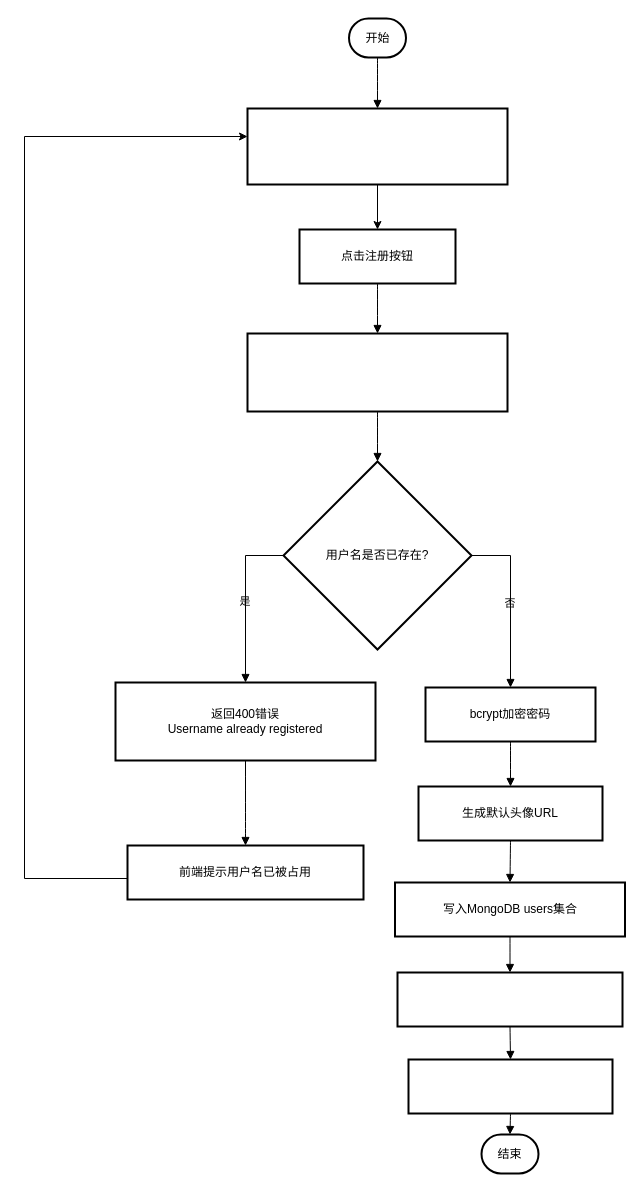
Image size: 643x1191. Some labels were removed from this diagram. The shapes that lost their labels are listed below. From the top down, each one's centre as x and y in pixels, then its label:
the point at 377,146: 用户填写注册信息 用户名 + 密码
the point at 377,372: 前端发送 POST /api/auth/register
the point at 509,999: 返回用户信息 User对象
the point at 510,1086: 前端跳转到登录页面
